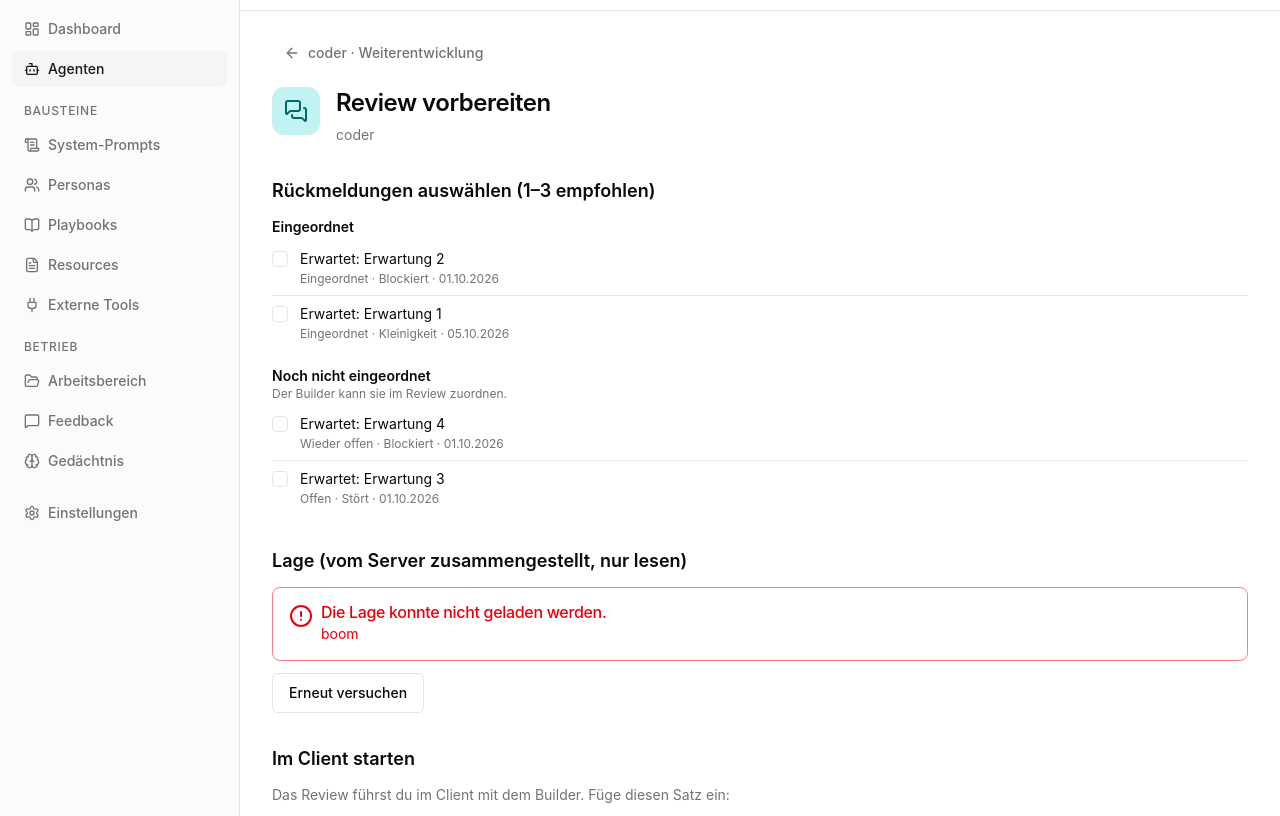
Test: ② Lage › haelt ① und ③ bedienbar, wenn die Lage fehlschlaegt, und laedt erneut
Expected: the text "Die Lage konnte nicht geladen werden." is shown, x1=321 y1=602 x2=606 y2=622
Expected: the checkbox labelled "Erwartet: Erwartung 2 Eingeordnet · Blockiert · 01.10.2026" is shown, x1=264 y1=243 x2=296 y2=275
Click the button "Erneut versuchen". click: (348, 693)
box: x1=272 y1=673 x2=424 y2=713
(page scrolled)
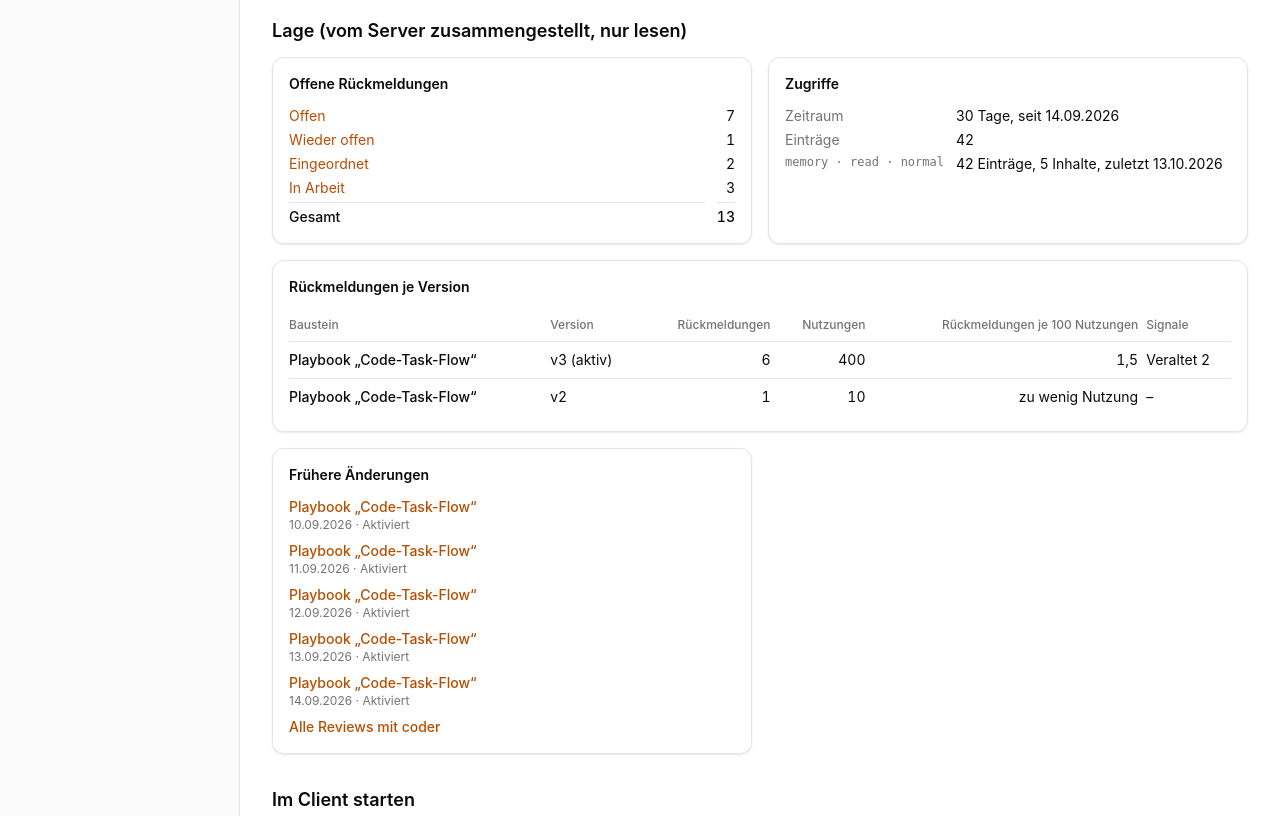
Expected: the element with test id "situation" is shown
